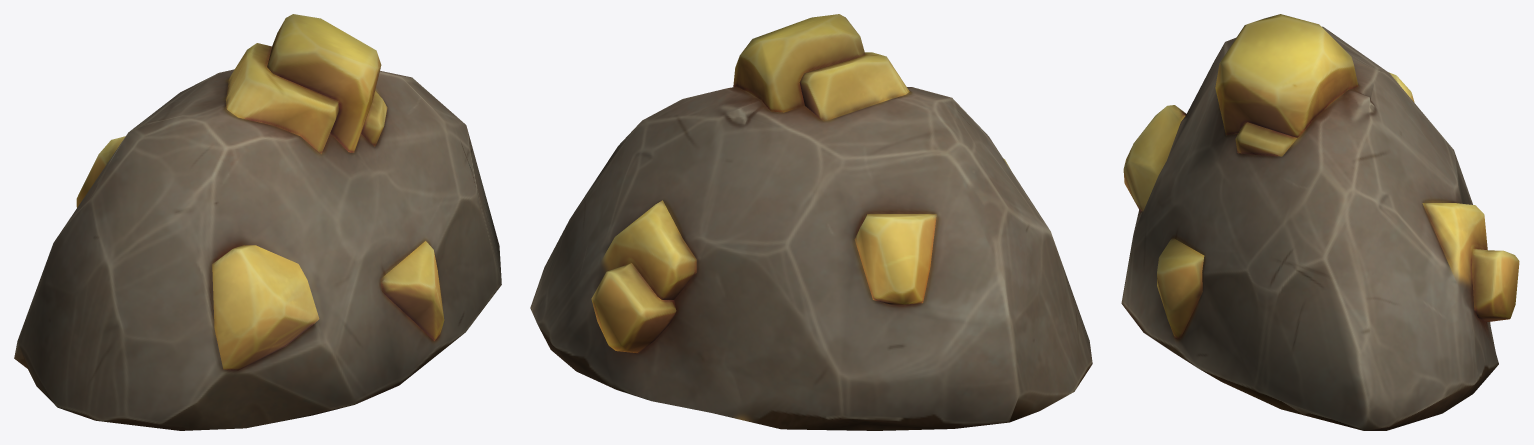
The model's file is SM_Gem_Gold_002.fbx.
The picture shows the model from 3 angles, left to right: view 1: azimuth 30°, elevation 25°; view 2: azimuth 150°, elevation 25°; view 3: azimuth 270°, elevation 25°; orthographic projection. The views are drawn at different scales.
Visible parts, largest first — view 1: SM_Gem_Gold_002; view 2: SM_Gem_Gold_002; view 3: SM_Gem_Gold_002.
Part boxes in pixels (bbox=[...]): SM_Gem_Gold_002: bbox=[14, 14, 501, 430]; SM_Gem_Gold_002: bbox=[530, 14, 1092, 430]; SM_Gem_Gold_002: bbox=[1121, 14, 1519, 430].
Size of the model in its own units: 94.41 by 58.11 by 68.56.
